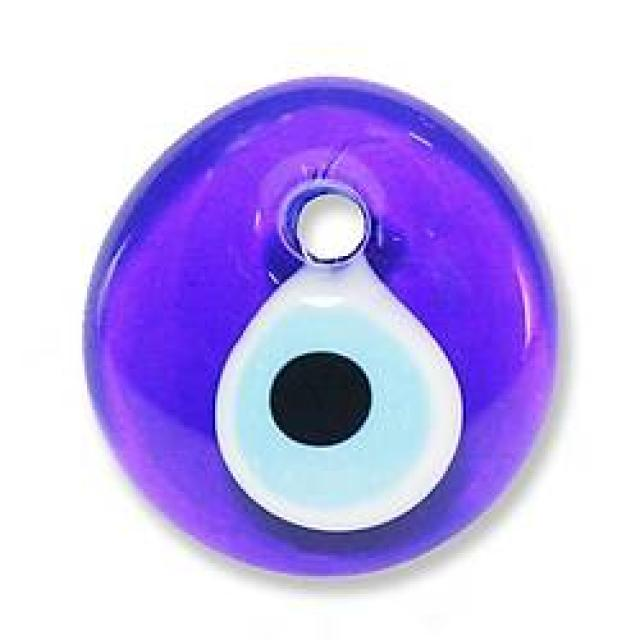Nazar-Boncugu: (90, 82, 558, 576)
